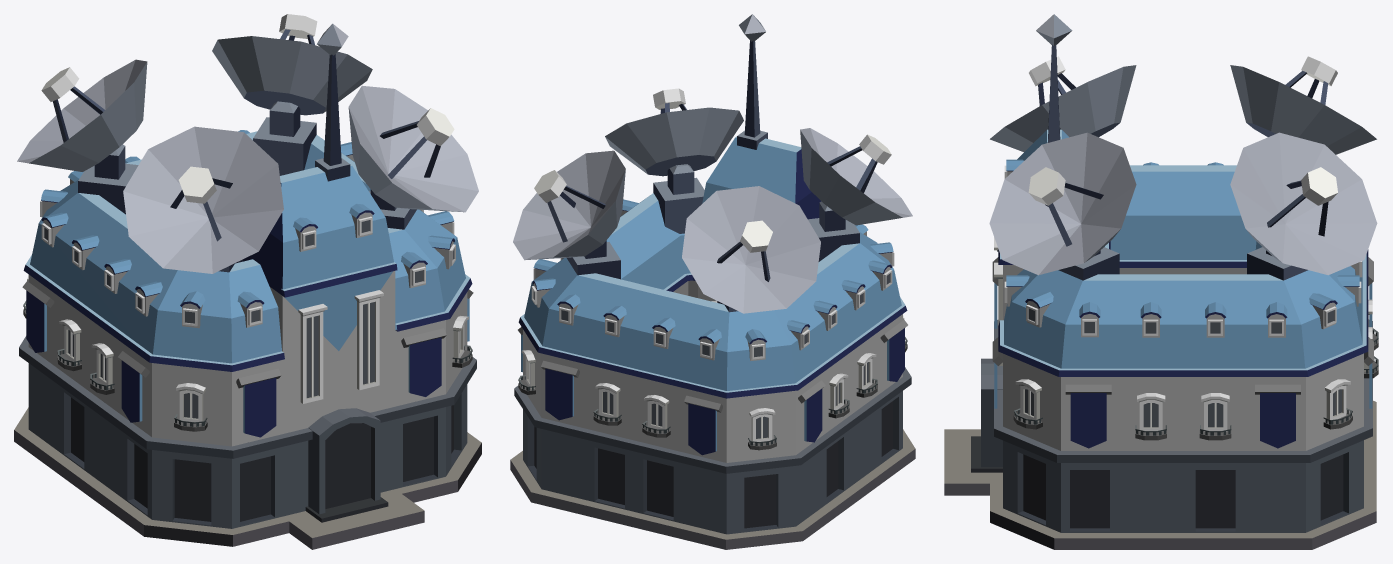
File: TB_CITY_Uniq_BroadcastingStation.FBX
3 views of the same model, side by side, from view 1: azimuth 30°, elevation 25°; view 2: azimuth 150°, elevation 25°; view 3: azimuth 270°, elevation 25° (orthographic). The views are drawn at different scales.
Parts seen in each view (by area): view 1: TB_CITY_Uniq_BroadcastingStation; view 2: TB_CITY_Uniq_BroadcastingStation; view 3: TB_CITY_Uniq_BroadcastingStation.
Part boxes in pixels (x1,y1,x2,y2): TB_CITY_Uniq_BroadcastingStation: (14,14,481,549); TB_CITY_Uniq_BroadcastingStation: (510,14,915,549); TB_CITY_Uniq_BroadcastingStation: (944,14,1378,549).
Size of the model in its own units: 24.2 by 31.71 by 26.92.
